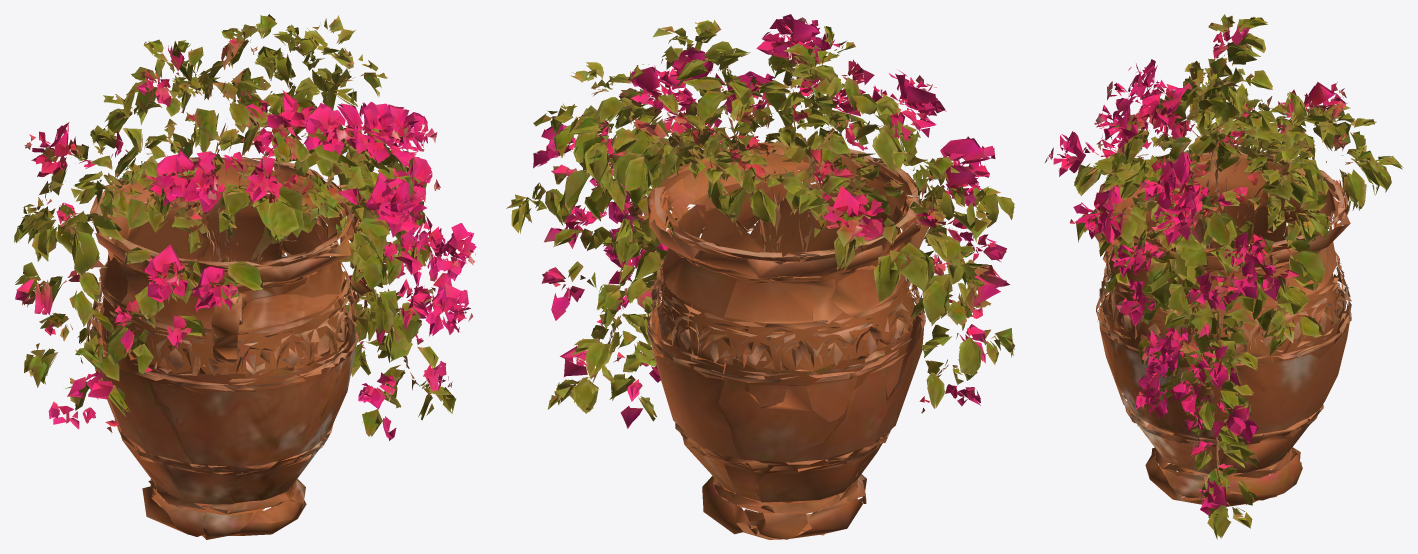
Rendered from base_basic_pbr.glb.
3 views of the same model, side by side, from view 1: azimuth 30°, elevation 25°; view 2: azimuth 150°, elevation 25°; view 3: azimuth 270°, elevation 25° (orthographic). The views are drawn at different scales.
Visible parts, largest first — view 1: model; view 2: model; view 3: model.
Boxes of the visible parts, <box> form: model: <box>14,14,476,539</box>; model: <box>506,14,1014,539</box>; model: <box>1045,14,1403,539</box>.
Bounding box in the file's own units: 1.85 × 1.91 × 1.39.
1 material, 1 textured.
